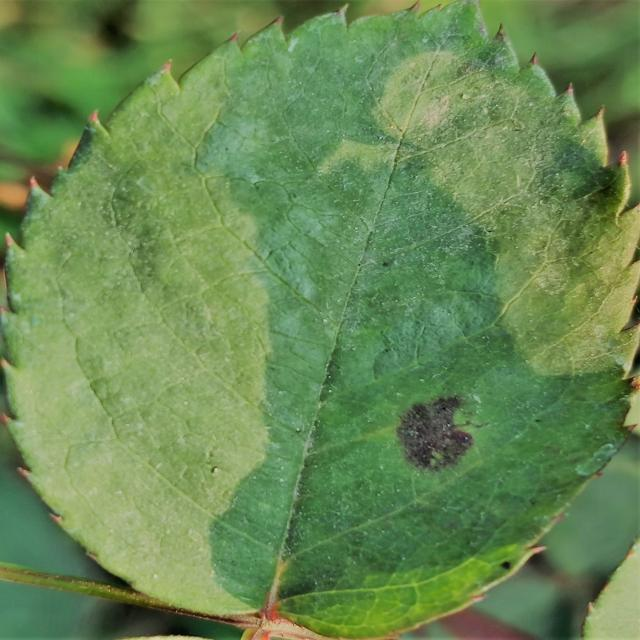Black_spot: (393, 390, 476, 474)
Rose: (0, 0, 639, 639)
